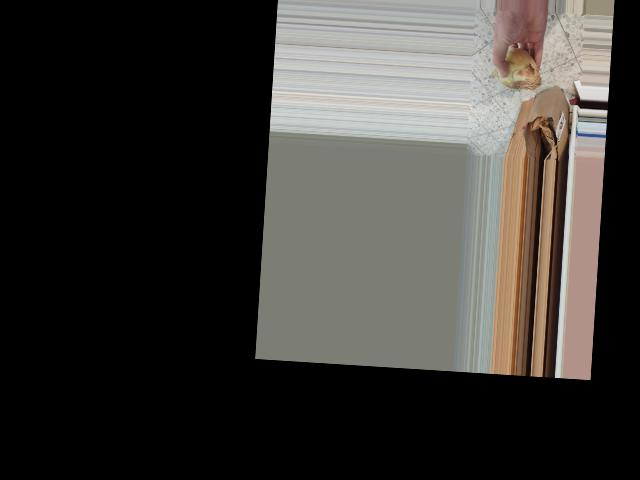onion: (492, 43, 544, 95)
